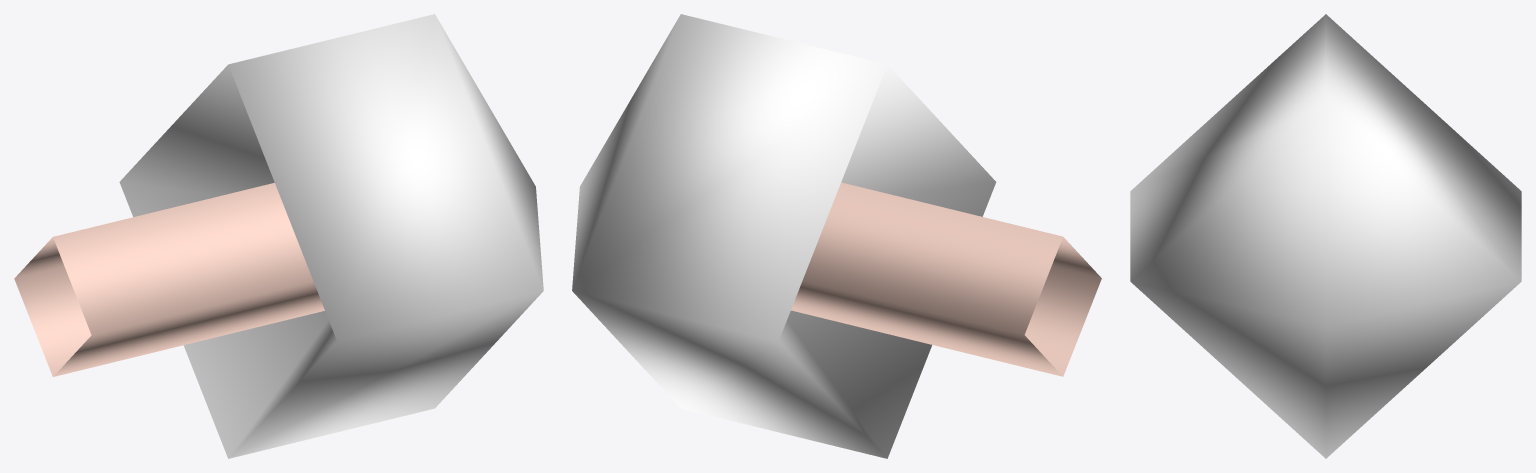
Rendered from Forearm.obj.
The picture shows the model from 3 angles, left to right: view 1: azimuth 30°, elevation 25°; view 2: azimuth 150°, elevation 25°; view 3: azimuth 270°, elevation 25°; orthographic projection. The views are drawn at different scales.
Parts seen in each view (by area): view 1: Object002; view 2: Object002; view 3: Object002.
Part boxes in pixels (x1,y1,x2,y2): Object002: [14, 14, 543, 458]; Object002: [572, 14, 1101, 458]; Object002: [1130, 14, 1521, 458].
Bounding box in the file's own units: 1.81 × 1.42 × 1.42.
